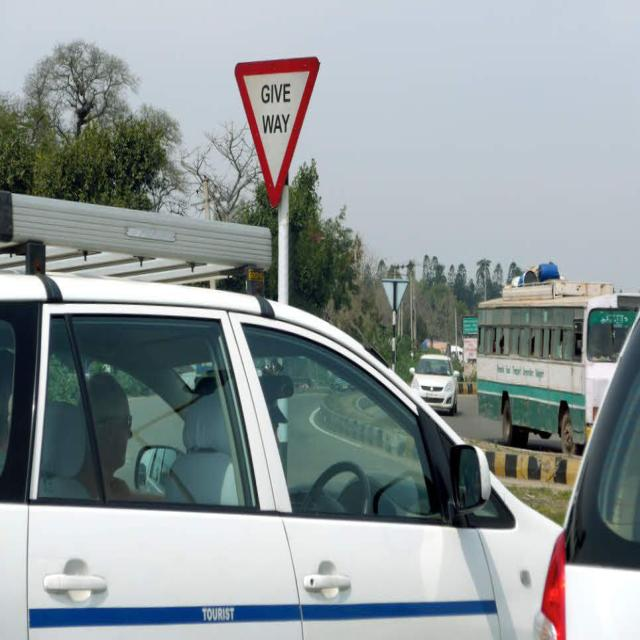giveway: (236, 52, 320, 213)
